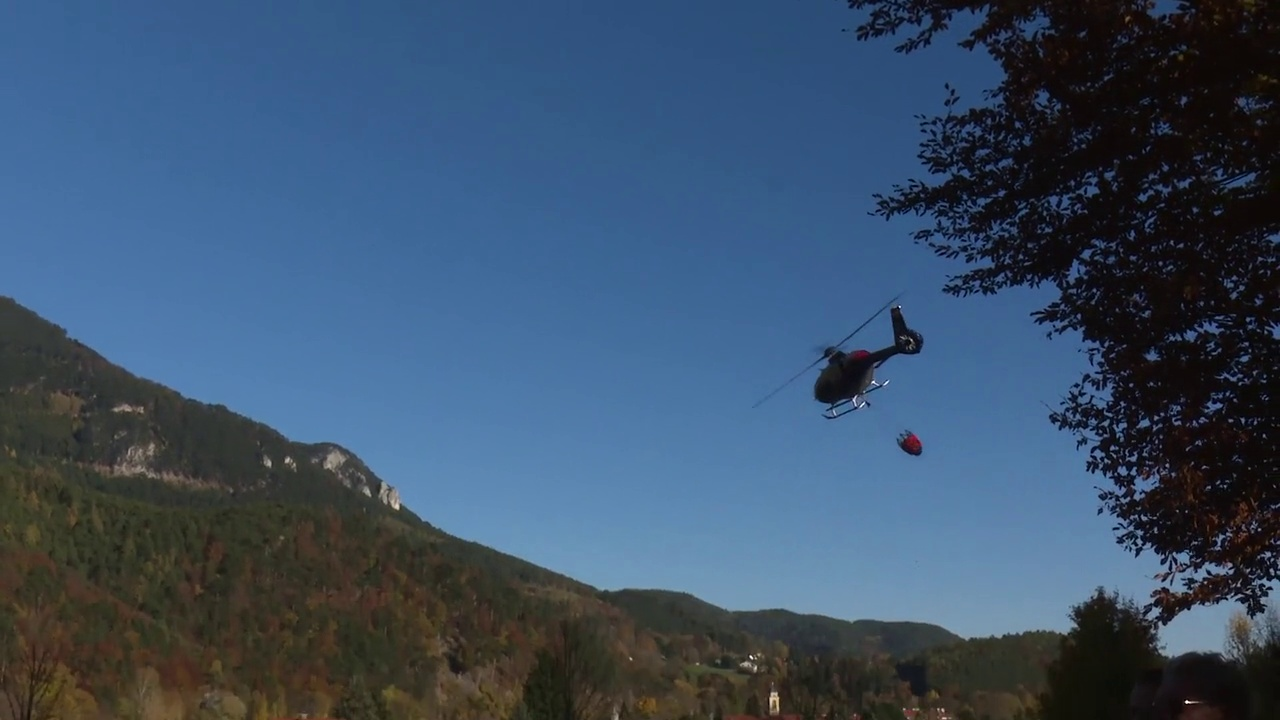heli: (755, 293, 923, 422)
